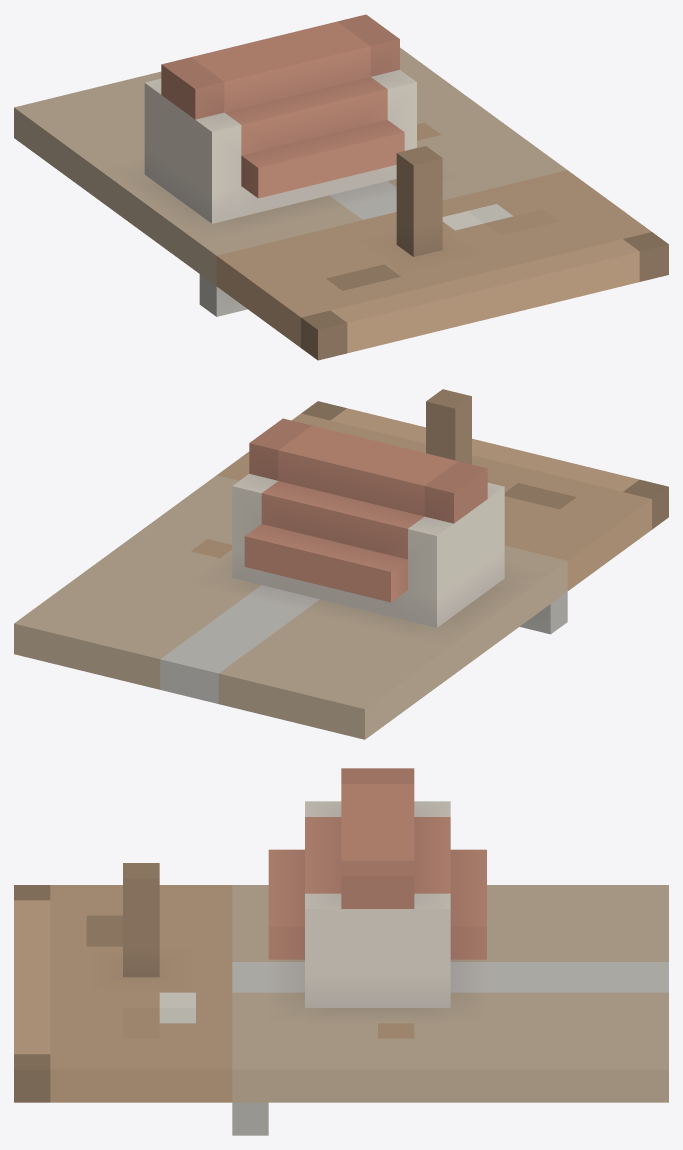
File: trading_post.l2.lite.glb
3 renders of one model, top to bottom at view 1: azimuth 30°, elevation 25°; view 2: azimuth 150°, elevation 25°; view 3: azimuth 270°, elevation 25°, orthographic. The views are drawn at different scales.
Visible parts, largest first — view 1: trading_post; view 2: trading_post; view 3: trading_post.
Boxes of the visible parts, bbox=[...] form: trading_post: bbox=[14, 14, 668, 360]; trading_post: bbox=[14, 389, 668, 739]; trading_post: bbox=[14, 768, 668, 1135].
Size of the model in its own units: 6 by 3 by 9.
